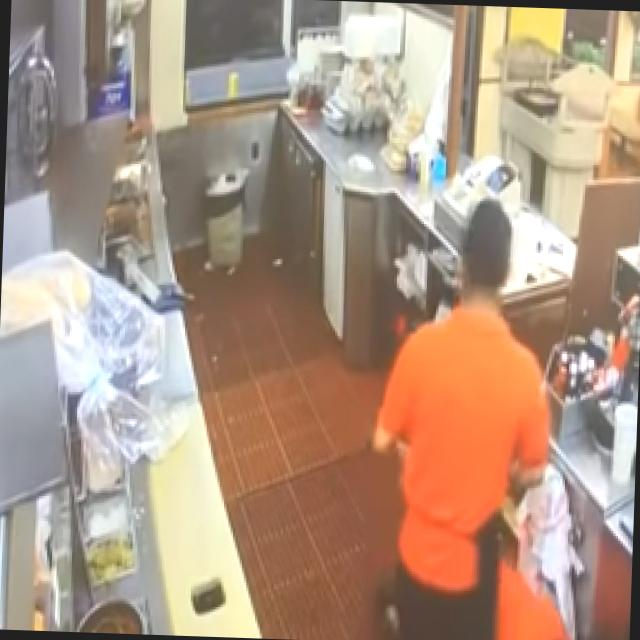person: (366, 194, 559, 640)
